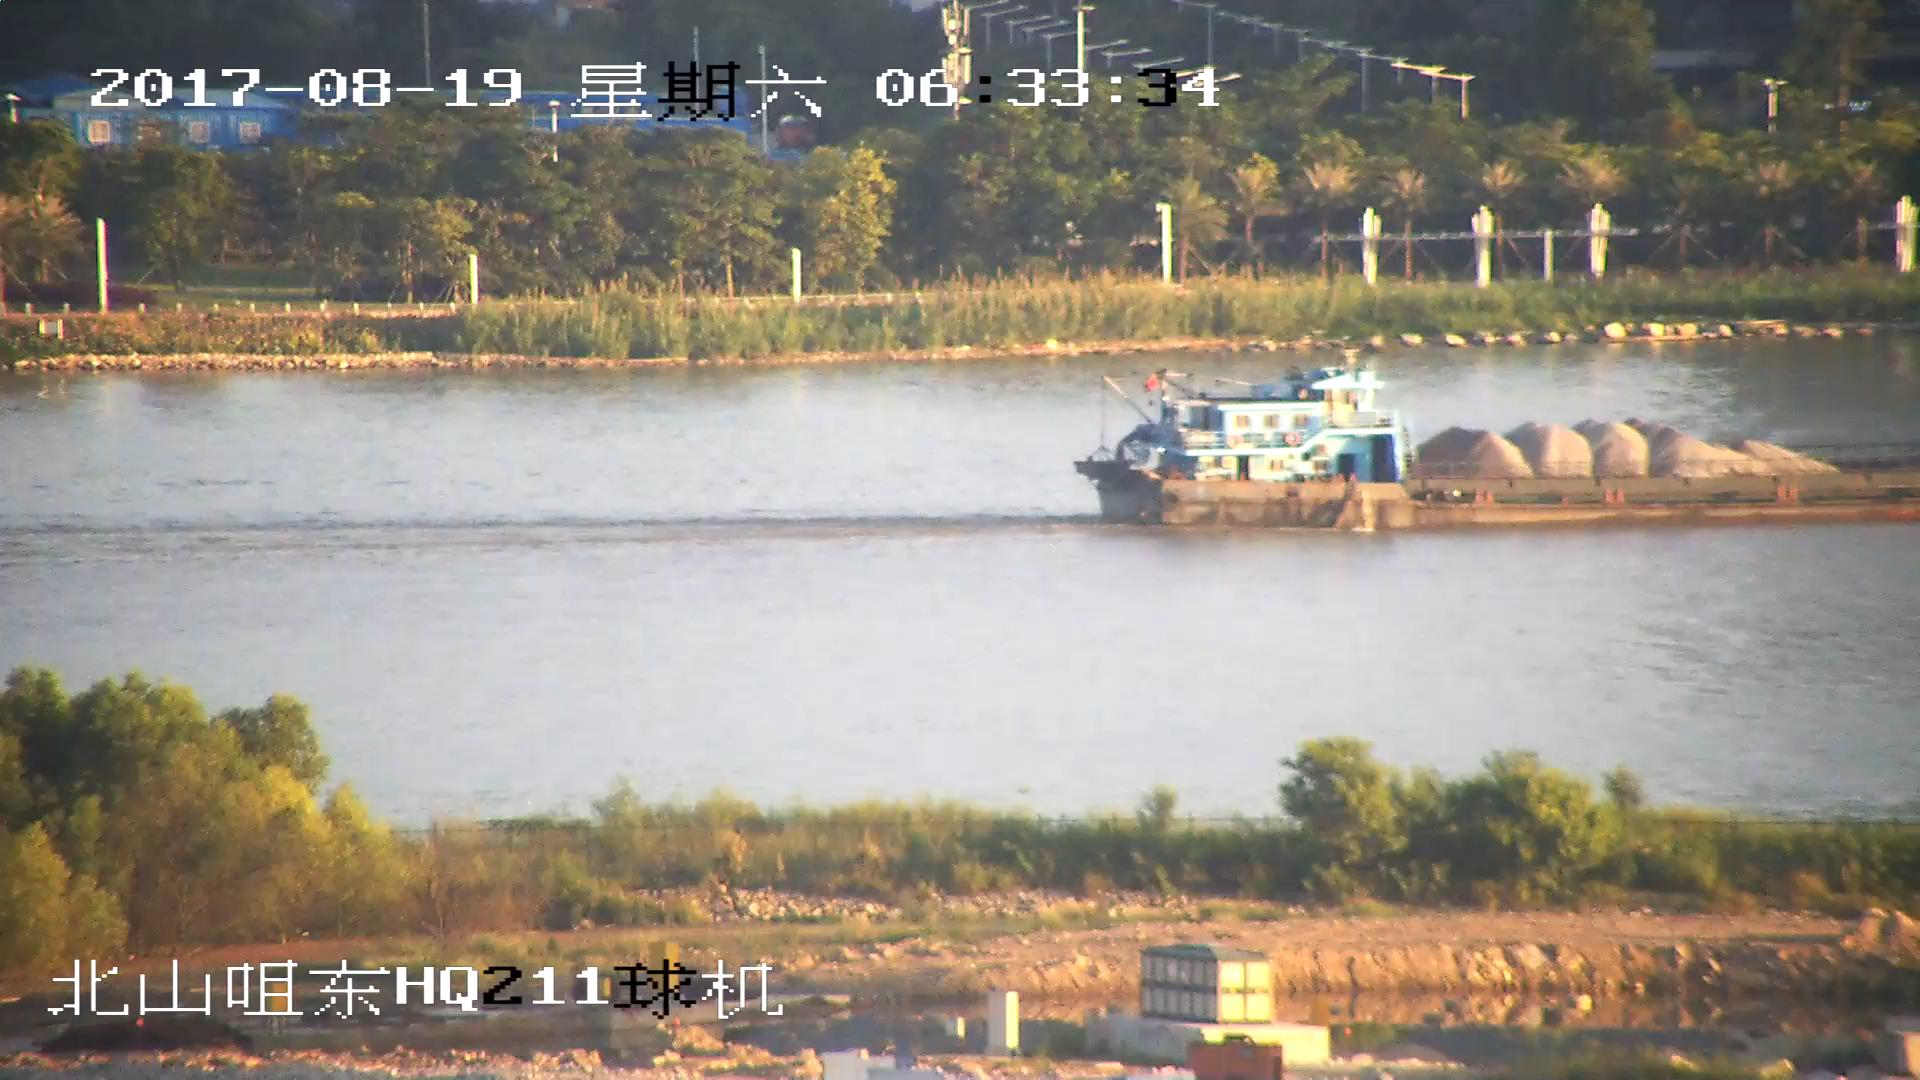ore carrier: (1071, 347, 1920, 532)
